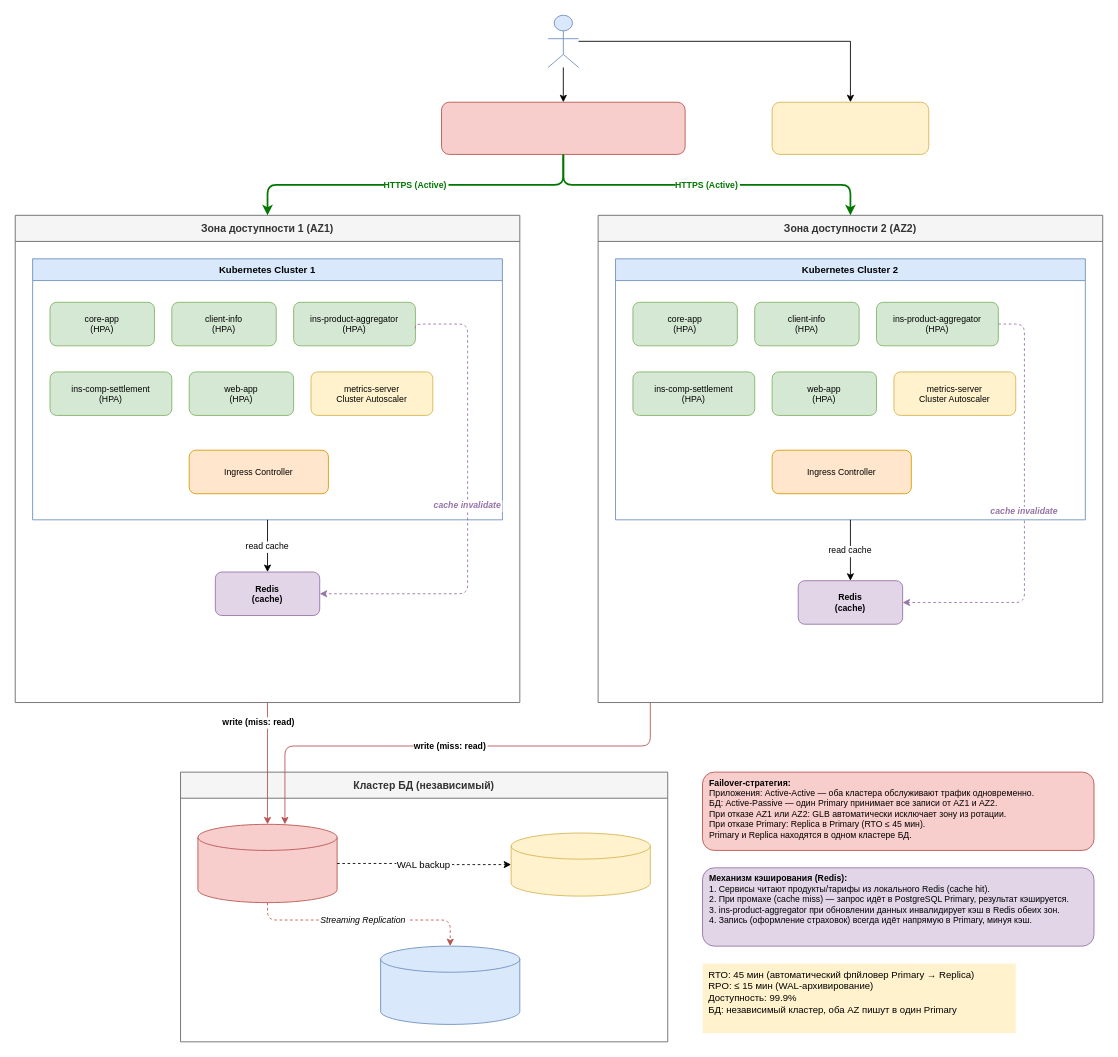
Some shapes in this 1118 by 1057 pixel diagram are drawn without their labels. Here are the shapes that lost their labels. From the top down, the centre of each, then its label:
the point at 563,127: Global Load Balancer (geo-routing, health checks, failover)
the point at 850,127: CDN (статика )
the point at 267,863: PostgreSQL Primary (WAL-архивирование)
the point at 580,864: Backup Storage (WAL, RPO ≤ 15 мин)
the point at 450,984: PostgreSQL Replica
